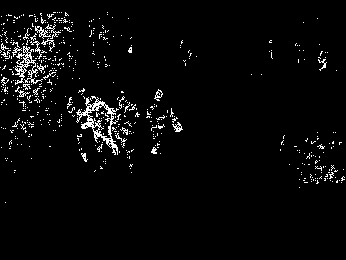person: (147, 86, 180, 158), (84, 97, 115, 158), (115, 91, 138, 171)
